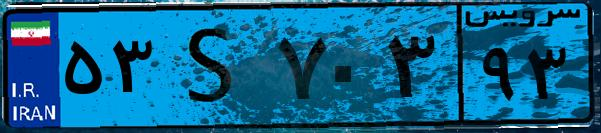0: (330, 28, 385, 110)
3: (385, 28, 445, 110), (525, 38, 570, 115), (110, 28, 158, 98)
5: (57, 26, 110, 100)
7: (270, 28, 330, 110)
9: (475, 38, 525, 113)
S: (158, 12, 270, 120)
